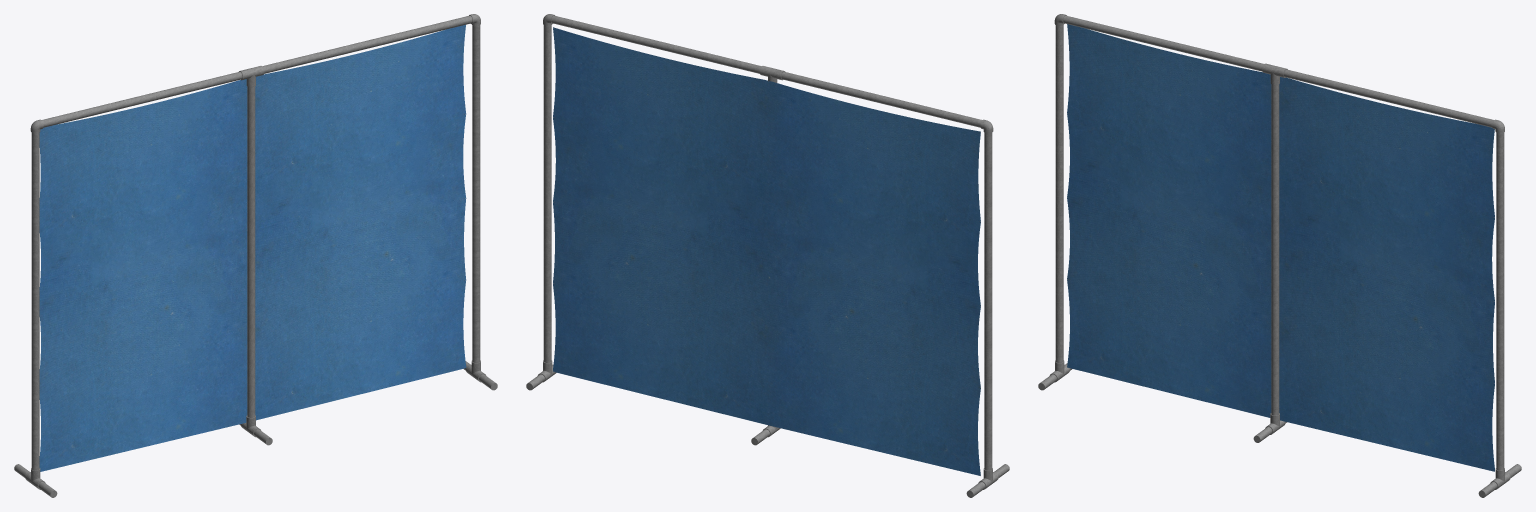
The model's file is Construction Fence with Screen.fbx.
3 renders of one model, left to right at view 1: azimuth 30°, elevation 25°; view 2: azimuth 150°, elevation 25°; view 3: azimuth 330°, elevation 25°, orthographic.
Parts seen in each view (by area): view 1: Geom3D_3, Geom3D; view 2: Geom3D_3, Geom3D; view 3: Geom3D_3, Geom3D.
Part boxes in pixels (x1=…): Geom3D_3: x1=39, y1=25, x2=466, y2=471; Geom3D: x1=14, y1=14, x2=497, y2=497; Geom3D_3: x1=553, y1=27, x2=980, y2=475; Geom3D: x1=526, y1=14, x2=1009, y2=497; Geom3D_3: x1=1067, y1=24, x2=1494, y2=471; Geom3D: x1=1038, y1=14, x2=1521, y2=497.
Size of the model in its own units: 3.31 by 2.56 by 0.462.
Materials: 4 (2 with a texture image).
